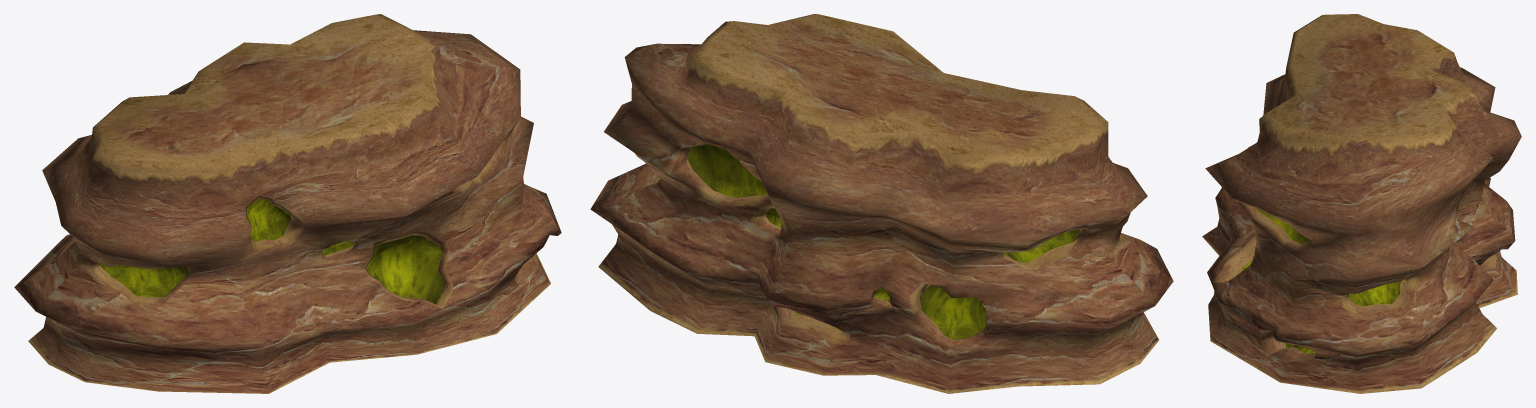
Rendered from TelNumara_Redrock.FBX.
The picture shows the model from 3 angles, left to right: view 1: azimuth 30°, elevation 25°; view 2: azimuth 150°, elevation 25°; view 3: azimuth 270°, elevation 25°; orthographic projection. The views are drawn at different scales.
Visible parts, largest first — view 1: TelNumara_RedRock; view 2: TelNumara_RedRock; view 3: TelNumara_RedRock.
Part boxes in pixels (x1,y1,x2,y2): TelNumara_RedRock: (14,14,561,393); TelNumara_RedRock: (590,14,1173,393); TelNumara_RedRock: (1202,14,1521,393).
Size of the model in its own units: 803 by 344 by 472.
2 materials, 2 textured.
